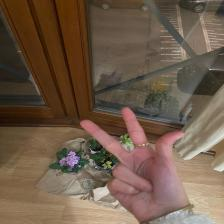three: (78, 105, 191, 216)
